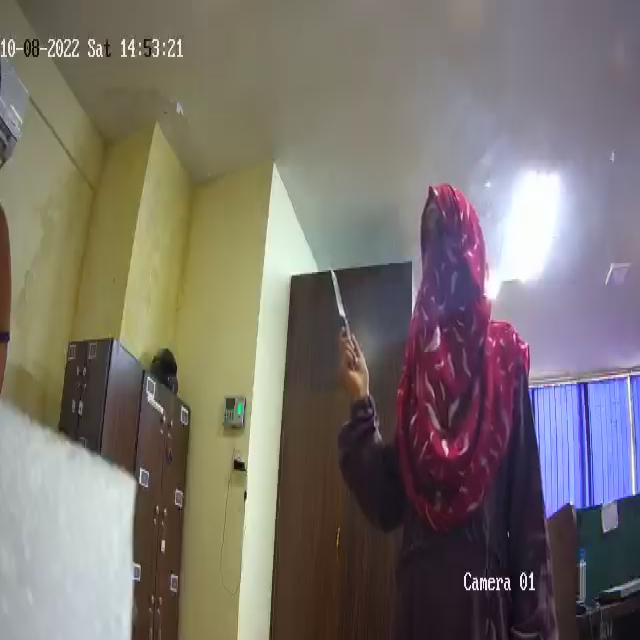Knife: (327, 262, 360, 372)
